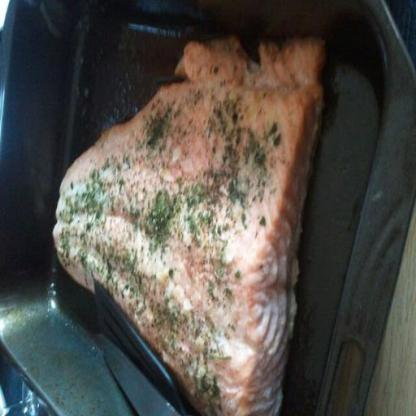salmon: (47, 26, 324, 415)
